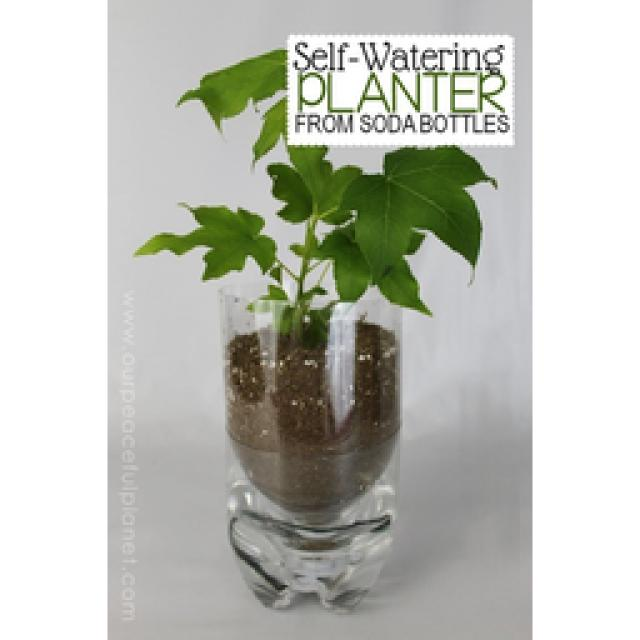plastic_water_bottles: (217, 280, 409, 607)
